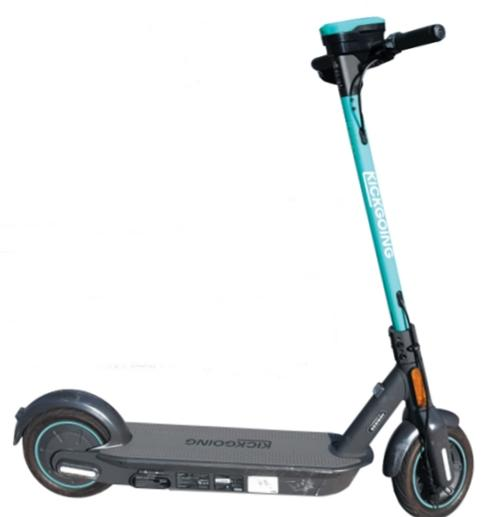scooter: (14, 16, 474, 517)
